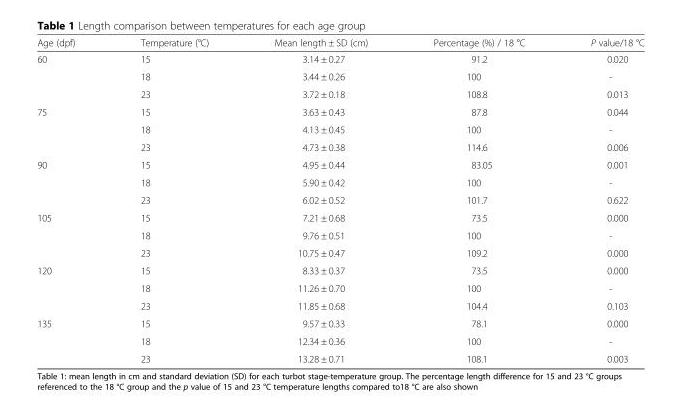table: (36, 36, 643, 364)
table column: (240, 36, 400, 364), (400, 36, 557, 364), (107, 36, 240, 364), (557, 36, 643, 364), (36, 36, 107, 364)
table column header: (36, 36, 643, 50)
table row: (36, 67, 643, 85), (36, 102, 643, 120), (36, 120, 643, 138), (36, 155, 643, 173), (36, 190, 643, 208), (36, 208, 643, 226), (36, 243, 643, 261), (36, 261, 643, 279), (36, 296, 643, 314), (36, 314, 643, 332), (36, 50, 643, 67), (36, 85, 643, 102), (36, 138, 643, 155), (36, 173, 643, 190), (36, 226, 643, 243), (36, 279, 643, 296), (36, 332, 643, 349), (36, 349, 643, 364), (36, 36, 643, 50)
table spanning cell: (36, 102, 107, 155), (36, 155, 107, 208), (36, 208, 107, 261), (36, 261, 107, 314), (36, 50, 107, 102), (36, 314, 107, 364)
